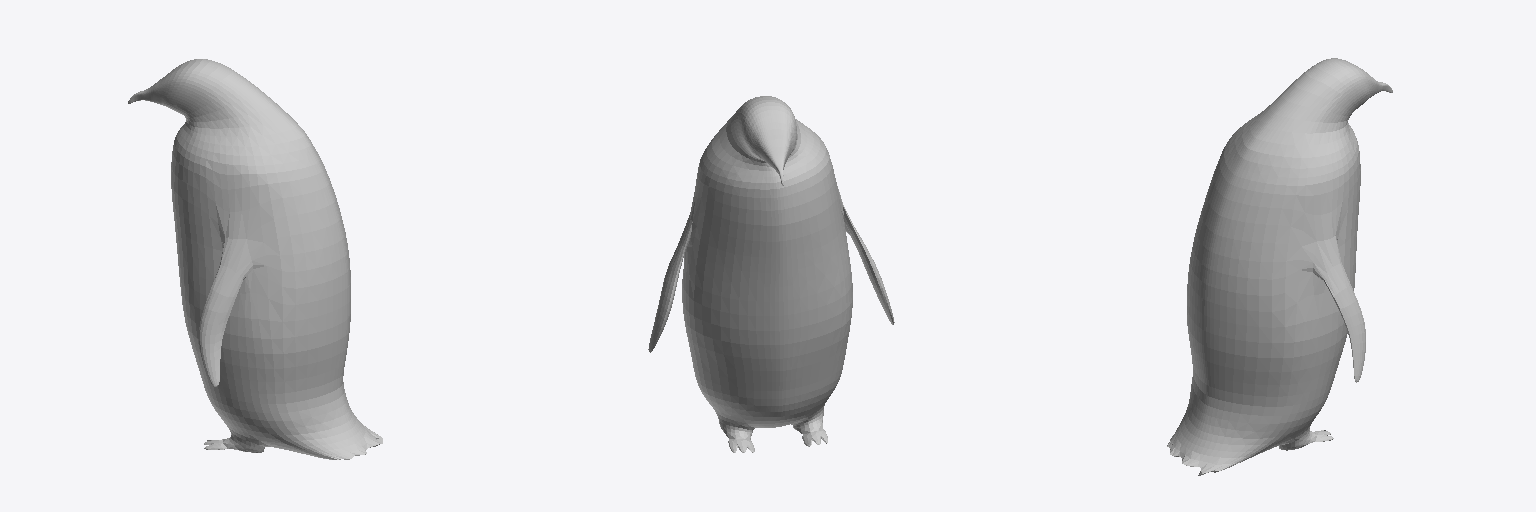
File: penguin4.obj
3 views of the same model, side by side, from view 1: azimuth 30°, elevation 25°; view 2: azimuth 150°, elevation 25°; view 3: azimuth 270°, elevation 25° (orthographic).
Visible parts, largest first — view 1: Penguin_Cylinder.003; view 2: Penguin_Cylinder.003; view 3: Penguin_Cylinder.003.
Part boxes in pixels (x1,y1,x2,y2): Penguin_Cylinder.003: (128, 59, 382, 459); Penguin_Cylinder.003: (648, 96, 894, 452); Penguin_Cylinder.003: (1167, 58, 1392, 475).
Size of the model in its own units: 103 by 201 by 114.